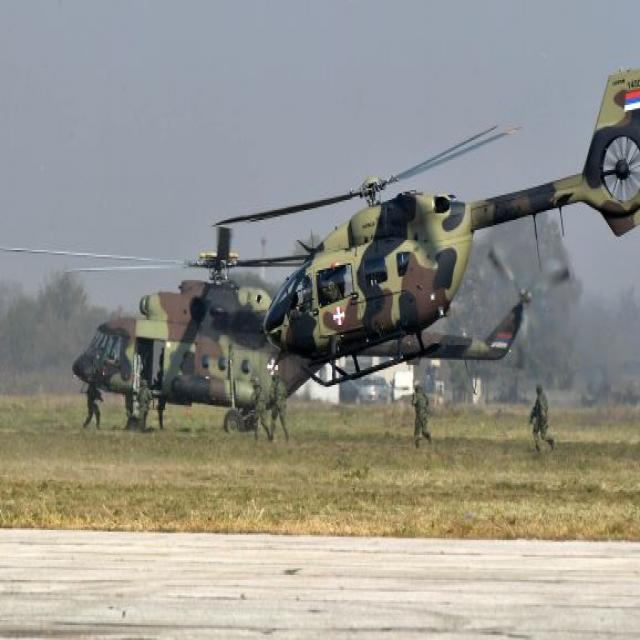helicopter: (173, 29, 614, 413), (53, 236, 420, 449)
